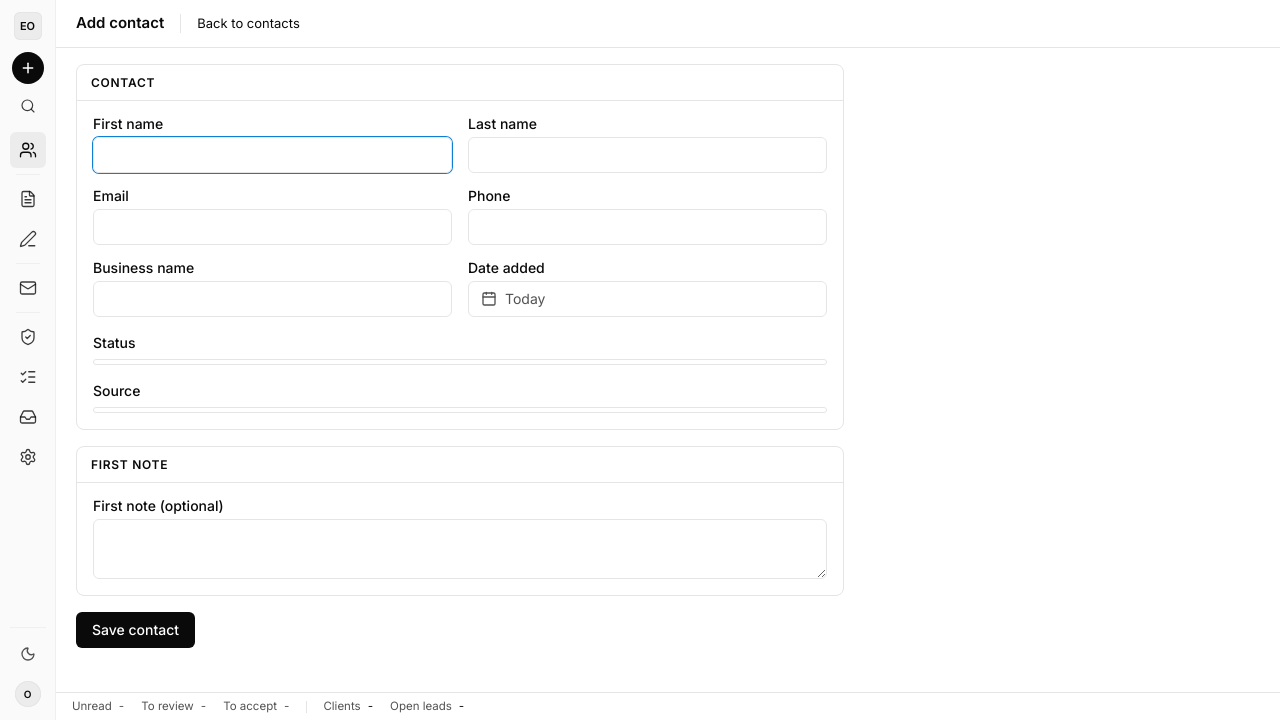
Test: intake › a client gets accepted quotes and no browser-made client_since; a blank service writes nothing
Type "Ed" into the field labelled "First name" at (272, 155), box [93,137,452,173]
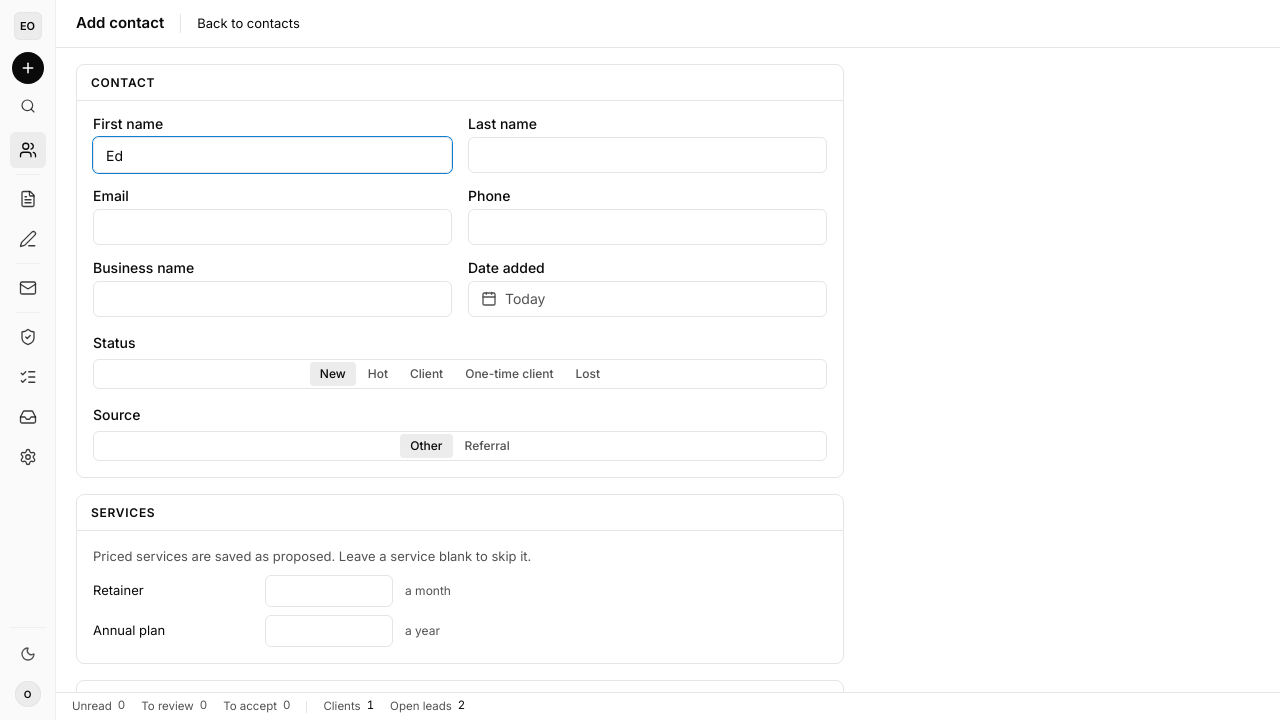
Click the radio button labelled "Client" at (427, 374), box [400,362,453,386]
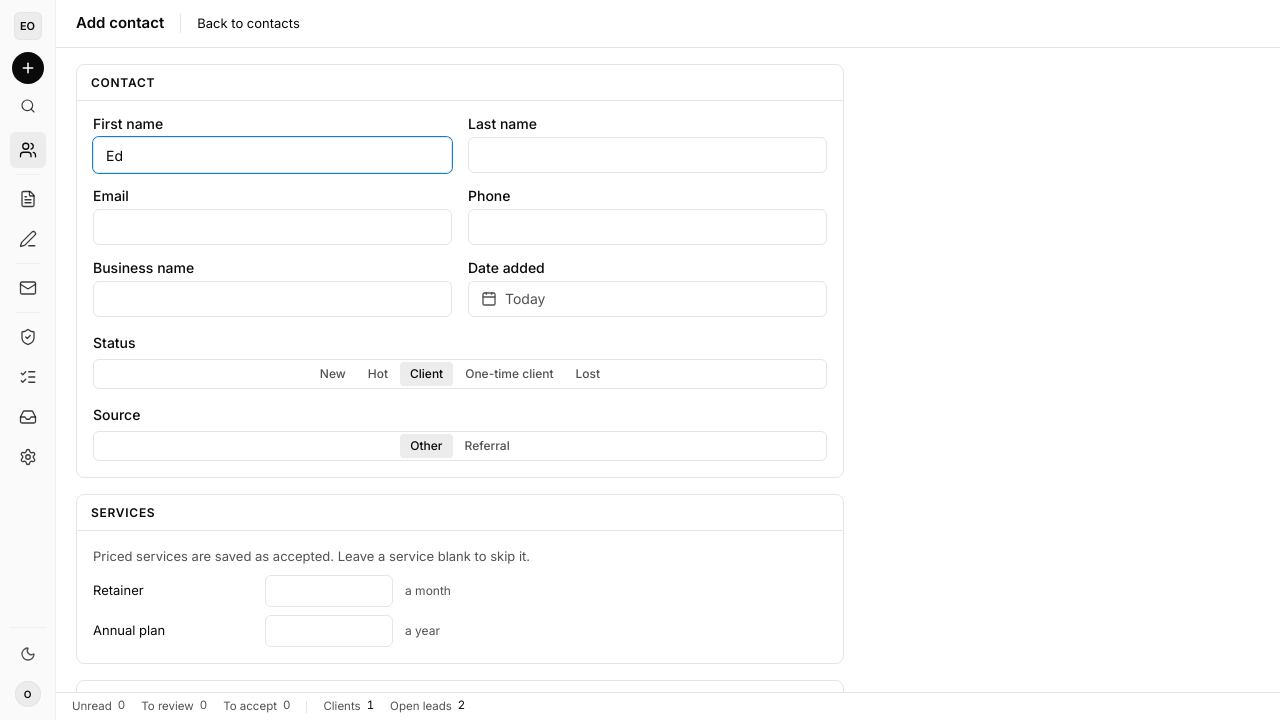
Type "$1,200" into the field labelled "Retainer" at (329, 590), box [265,574,393,606]
(page scrolled)
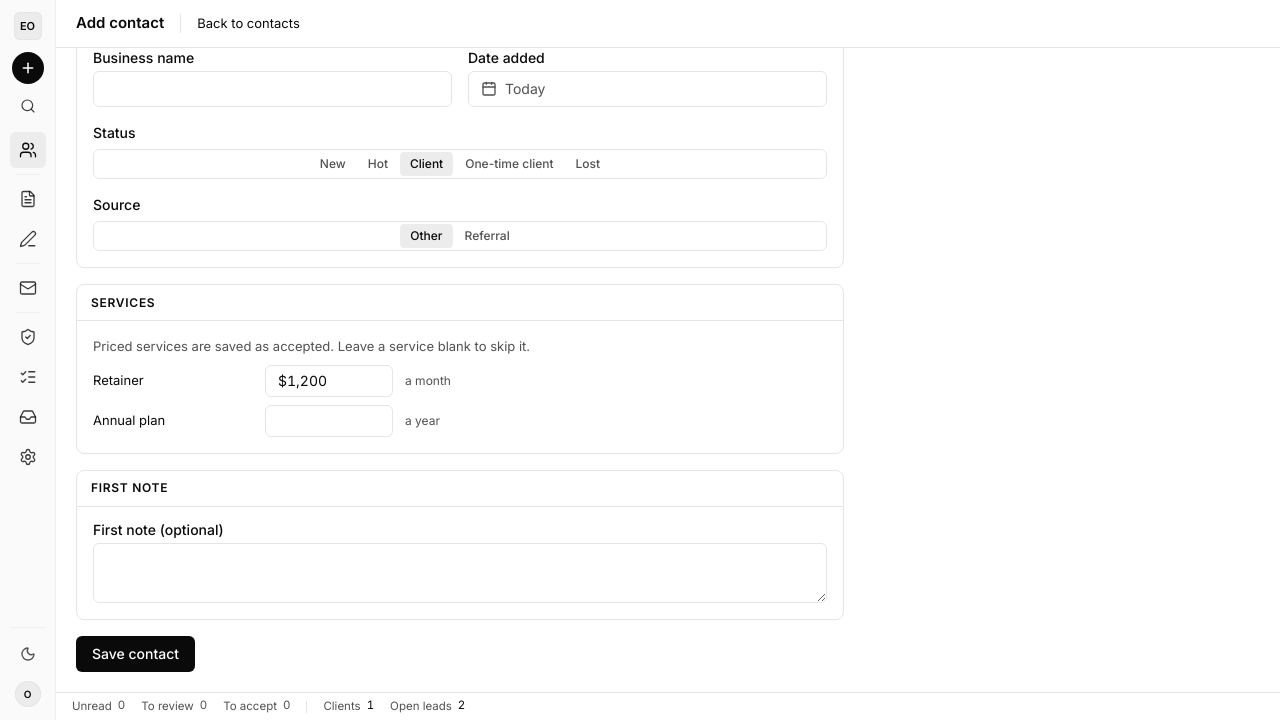
Click the button "Save contact" at (136, 654), box [76,636,195,672]
(page scrolled)
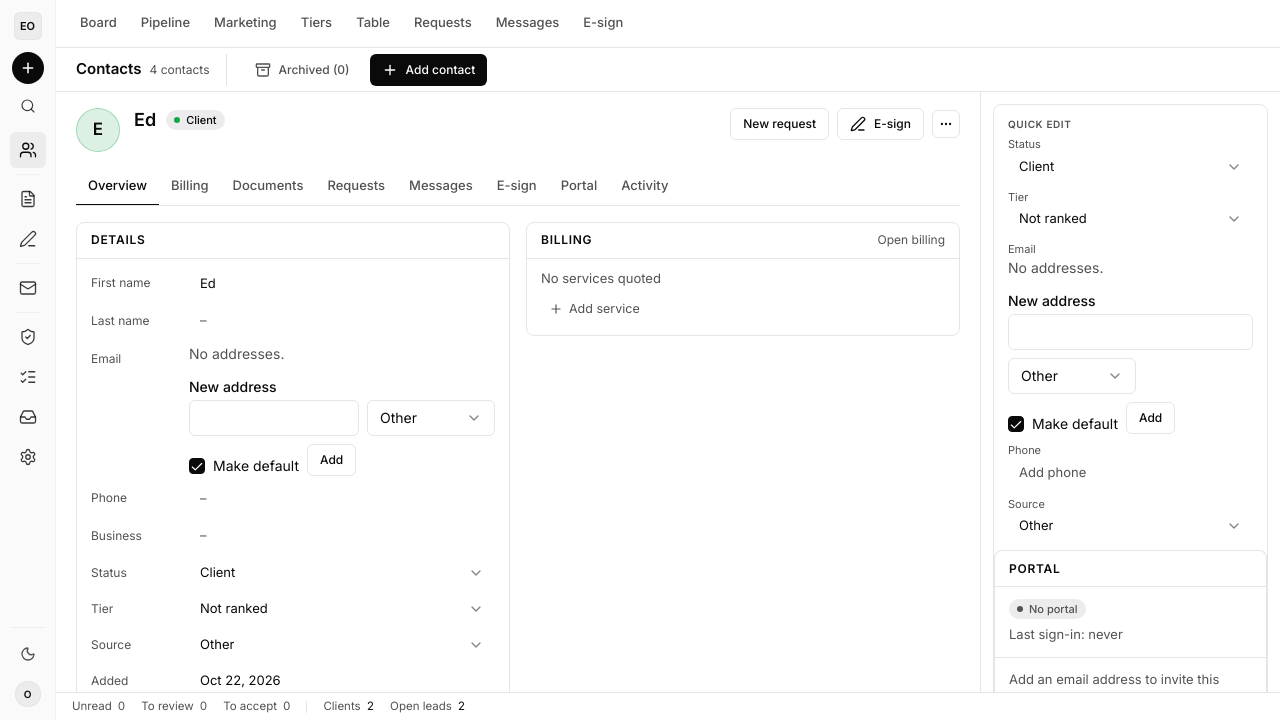
Expected: the heading "Ed" is shown, [134,108,156,132]
